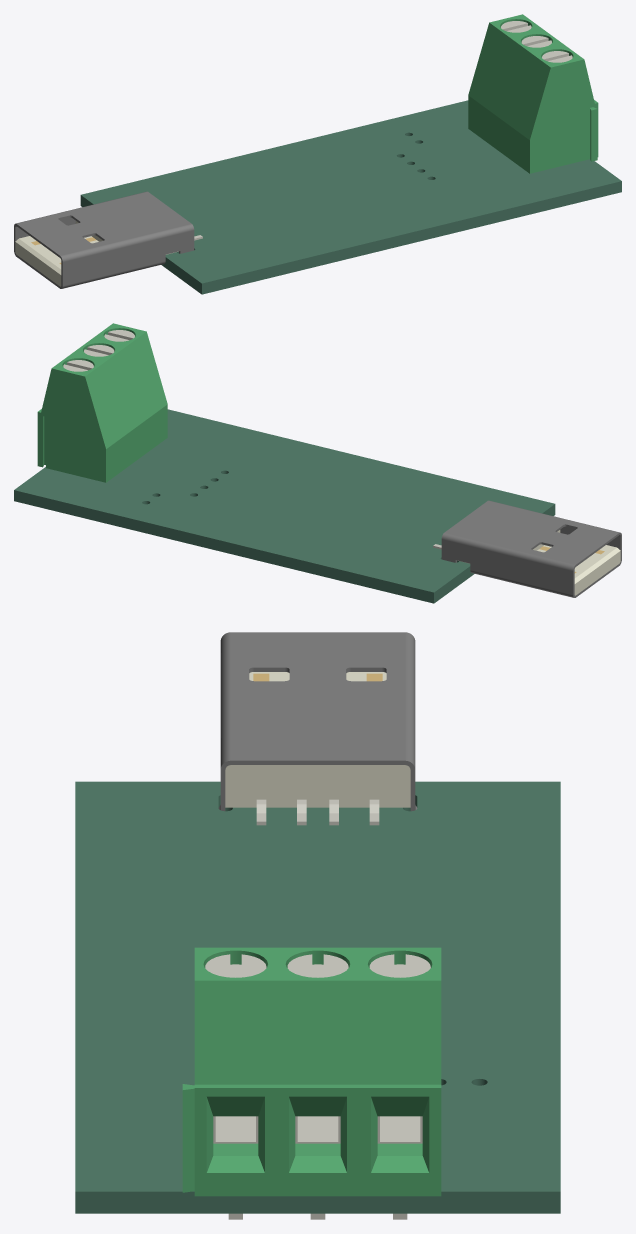
File: adaptateur_min.glb
3 renders of one model, top to bottom at view 1: azimuth 30°, elevation 25°; view 2: azimuth 150°, elevation 25°; view 3: azimuth 270°, elevation 25°, orthographic. The views are drawn at different scales.
Parts seen in each view (by area): view 1: =>[0:1:1:4], J2, J1; view 2: =>[0:1:1:4], J2, J1; view 3: =>[0:1:1:4], J2, J1.
Boxes of the visible parts, bbox=[...] form: =>[0:1:1:4]: bbox=[80, 100, 621, 294]; J2: bbox=[468, 14, 598, 173]; J1: bbox=[14, 191, 202, 288]; =>[0:1:1:4]: bbox=[14, 409, 555, 603]; J2: bbox=[37, 323, 167, 482]; J1: bbox=[433, 500, 621, 597]; =>[0:1:1:4]: bbox=[75, 781, 560, 1213]; J2: bbox=[182, 947, 441, 1219]; J1: bbox=[218, 632, 417, 825].
Bounding box in the file's own units: 0.0756 × 0.0173 × 0.03.
